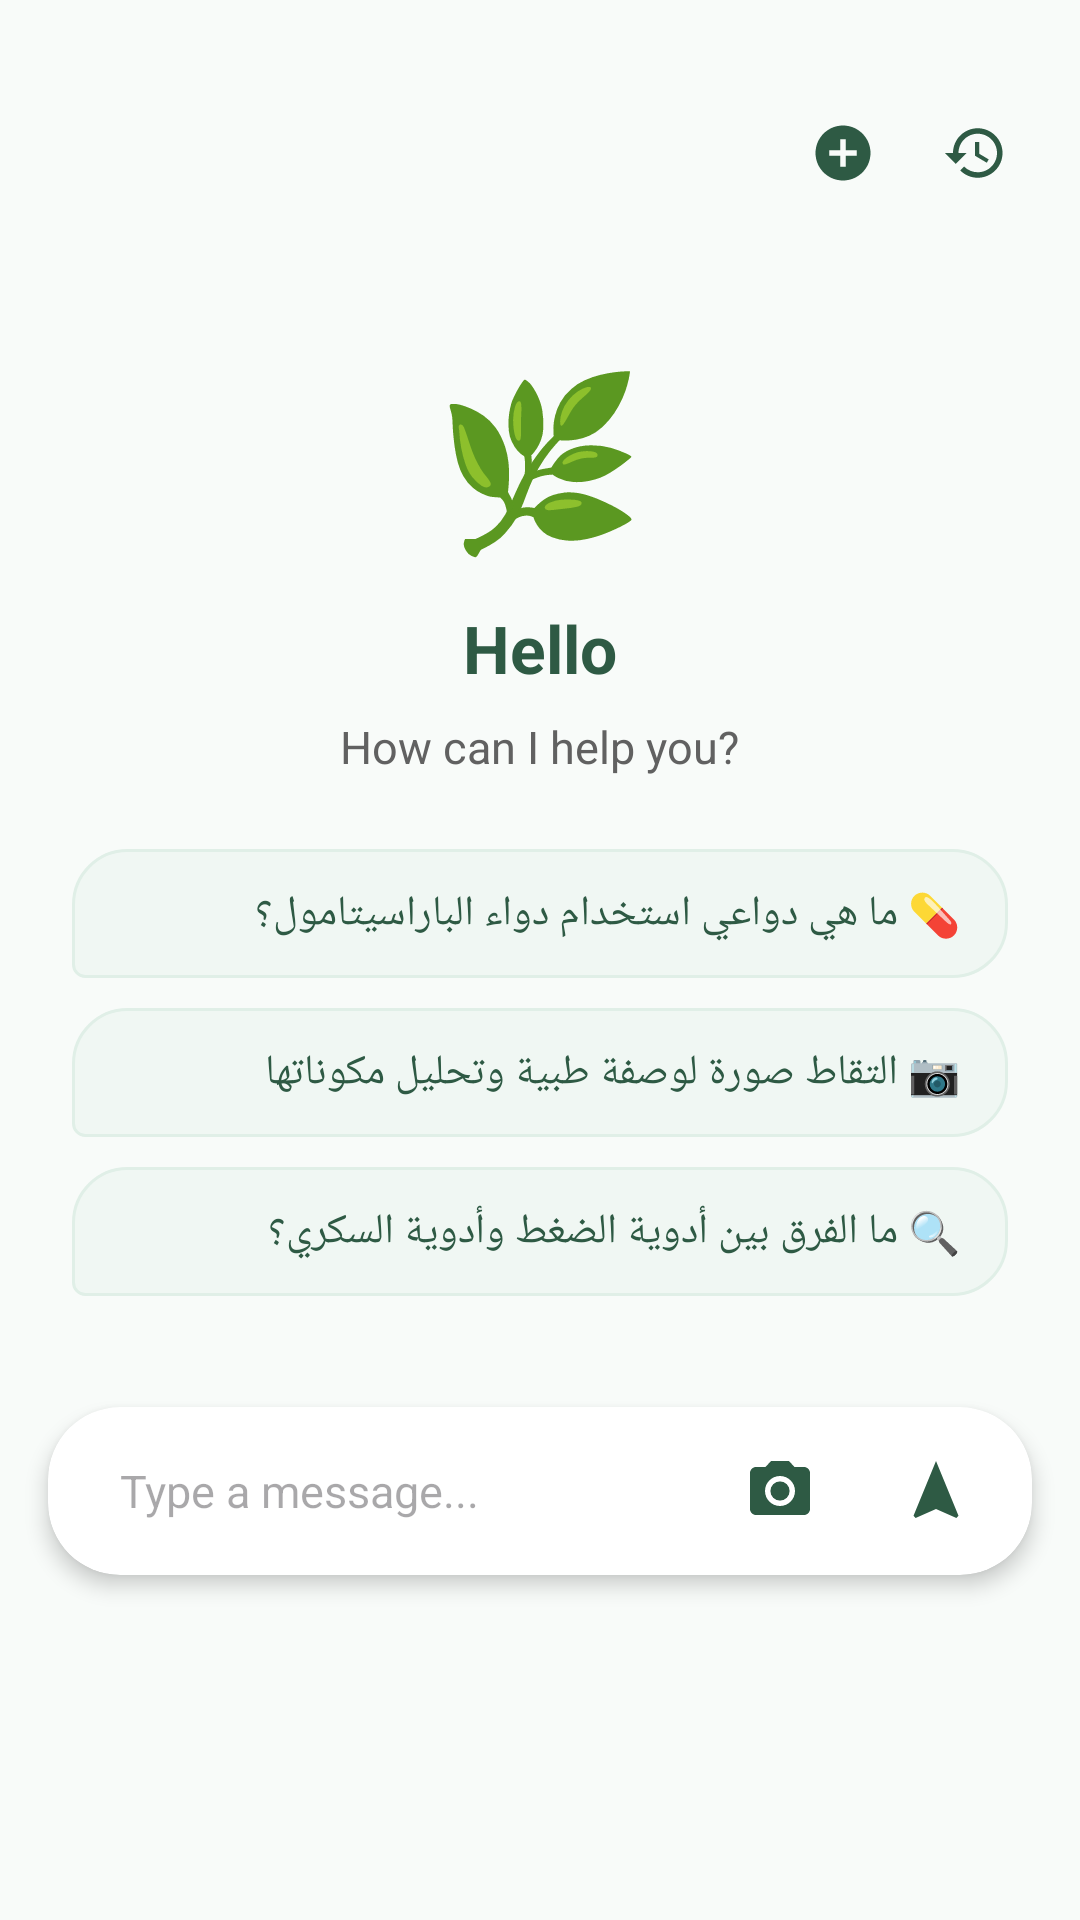

Named icons in this screenshot (1080px×1920px) and their bounding boxes, bbox=(x1, y1, x2, y2):
add circle: bbox=(815, 125, 871, 181)
history: bbox=(945, 128, 1003, 178)
navigation: bbox=(913, 1461, 959, 1518)
Take Photo: bbox=(750, 1461, 810, 1515)
